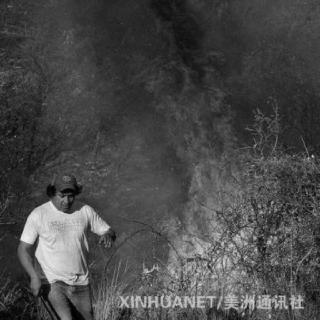Fire: (130, 1, 272, 293)
